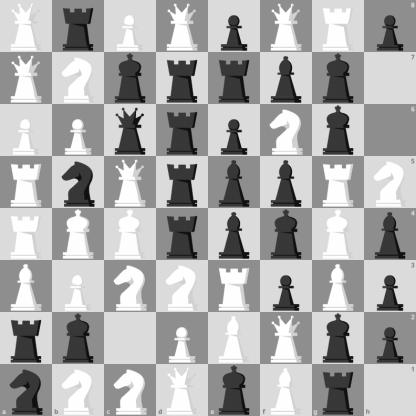B: (260, 364, 312, 416), (1, 261, 52, 312), (209, 313, 260, 364), (313, 261, 364, 312)
K: (53, 209, 104, 260), (105, 209, 156, 260), (313, 209, 364, 260)
N: (364, 156, 416, 209), (52, 364, 104, 416), (104, 364, 156, 416), (53, 53, 104, 104), (105, 261, 156, 312), (157, 261, 208, 312), (261, 105, 312, 156)
P: (1, 105, 52, 156), (53, 105, 104, 156), (53, 261, 104, 312), (105, 1, 156, 52), (157, 313, 208, 364)
Q: (156, 364, 209, 416), (1, 1, 52, 52), (1, 53, 52, 104), (105, 157, 156, 208), (157, 1, 208, 52), (261, 1, 312, 52), (261, 313, 312, 364)
R: (1, 157, 52, 208), (1, 209, 52, 260), (209, 261, 260, 312), (313, 1, 364, 52), (313, 157, 364, 208)
b: (364, 209, 416, 260), (209, 157, 260, 208), (209, 209, 260, 260), (261, 53, 312, 104), (261, 157, 312, 208)
board: (0, 0, 415, 415)
k: (209, 364, 260, 416), (53, 313, 104, 364), (105, 53, 156, 104), (261, 209, 312, 260), (313, 53, 364, 104), (313, 105, 364, 156), (313, 313, 364, 364)
n: (0, 364, 52, 416), (53, 157, 104, 208)
p: (364, 0, 416, 52), (364, 260, 416, 312), (364, 312, 416, 364), (209, 1, 260, 52), (209, 105, 260, 156), (261, 261, 312, 312)
q: (105, 105, 156, 156)
r: (312, 364, 364, 416), (1, 313, 52, 364), (53, 1, 104, 52), (157, 53, 208, 104), (157, 105, 208, 156), (157, 157, 208, 208), (157, 209, 208, 260), (209, 53, 260, 104)
